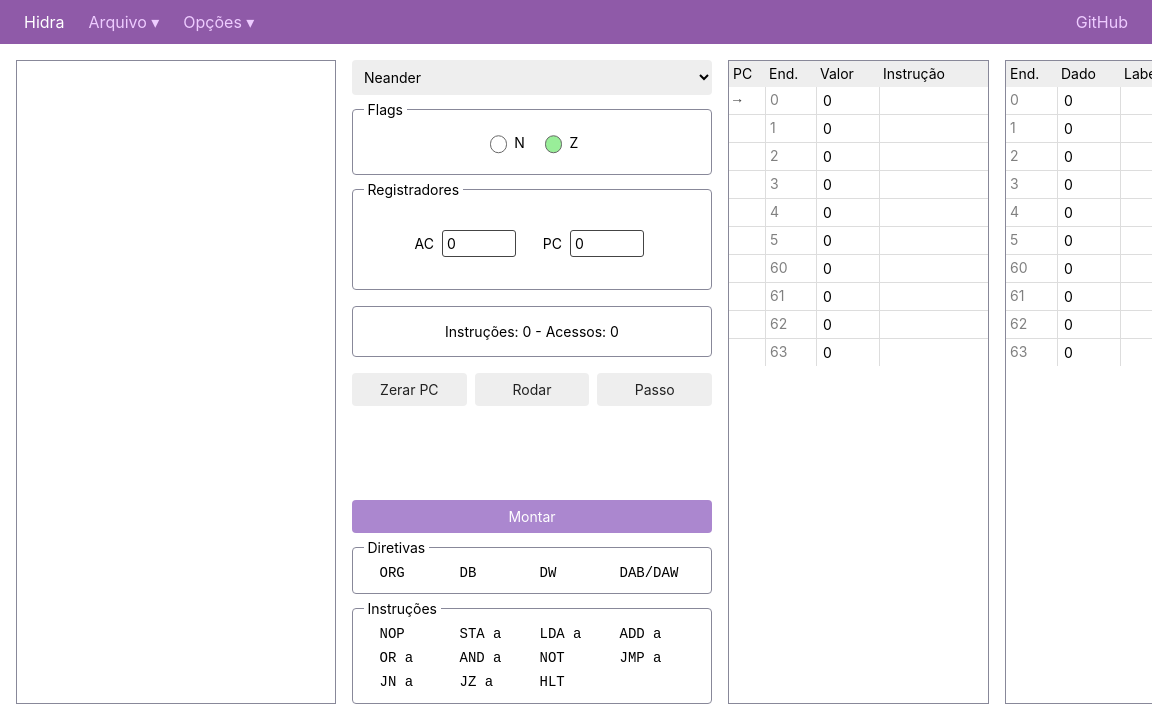
Test case: App: Memory Areas › instructions table: should show instruction strings
This screenshot has width=1164, height=720.
Click the button with test id "build-button": (532, 516) x1=352 y1=500 x2=712 y2=533
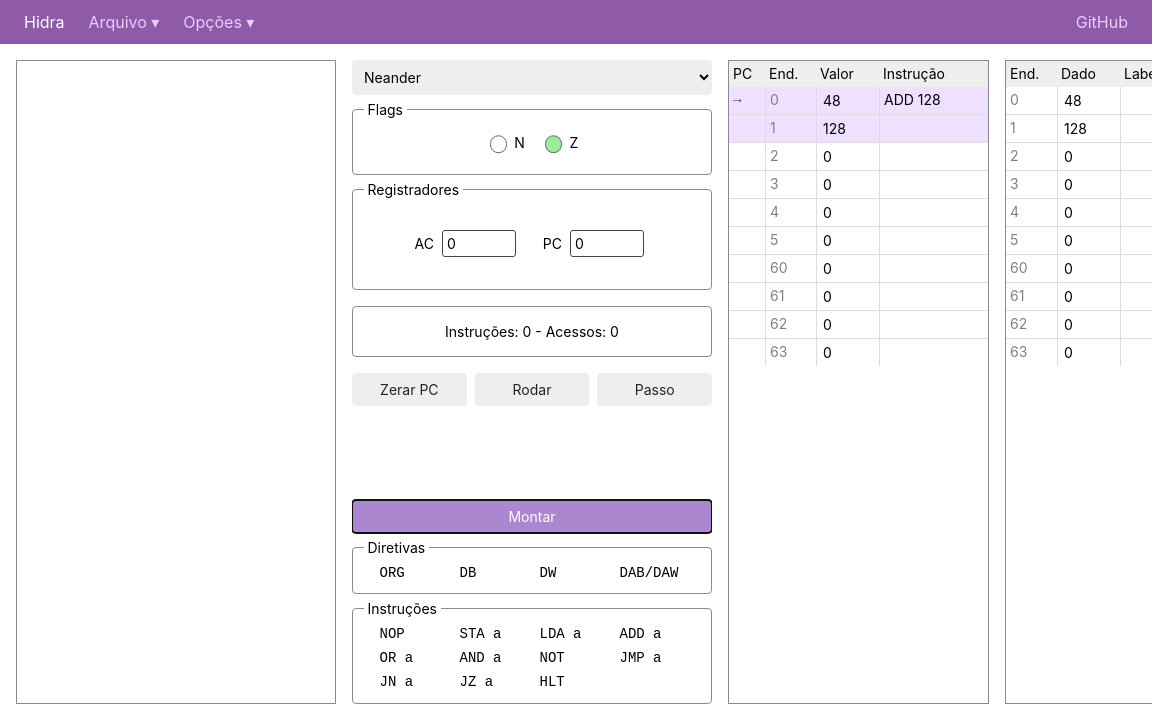
Expected: the text "ADD 128" is shown, x1=879 y1=87 x2=988 y2=114
